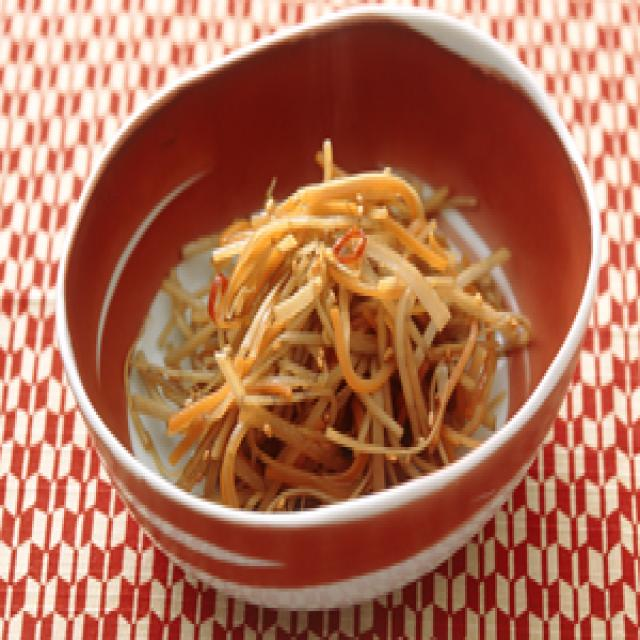蔬菜料理: (66, 45, 583, 579)
